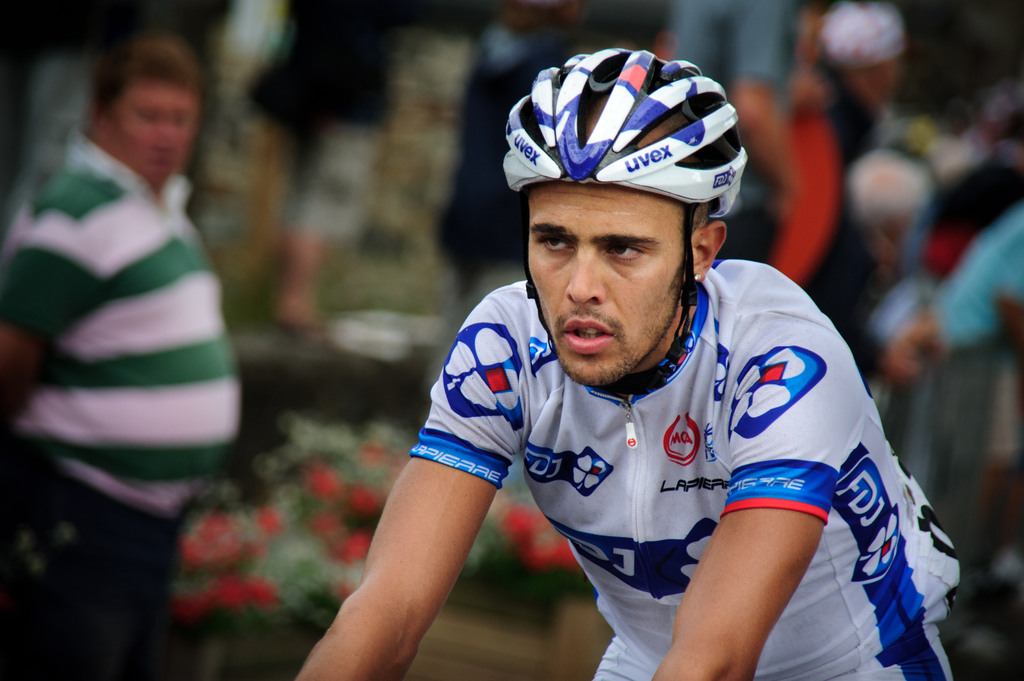Person: (0, 35, 264, 681)
